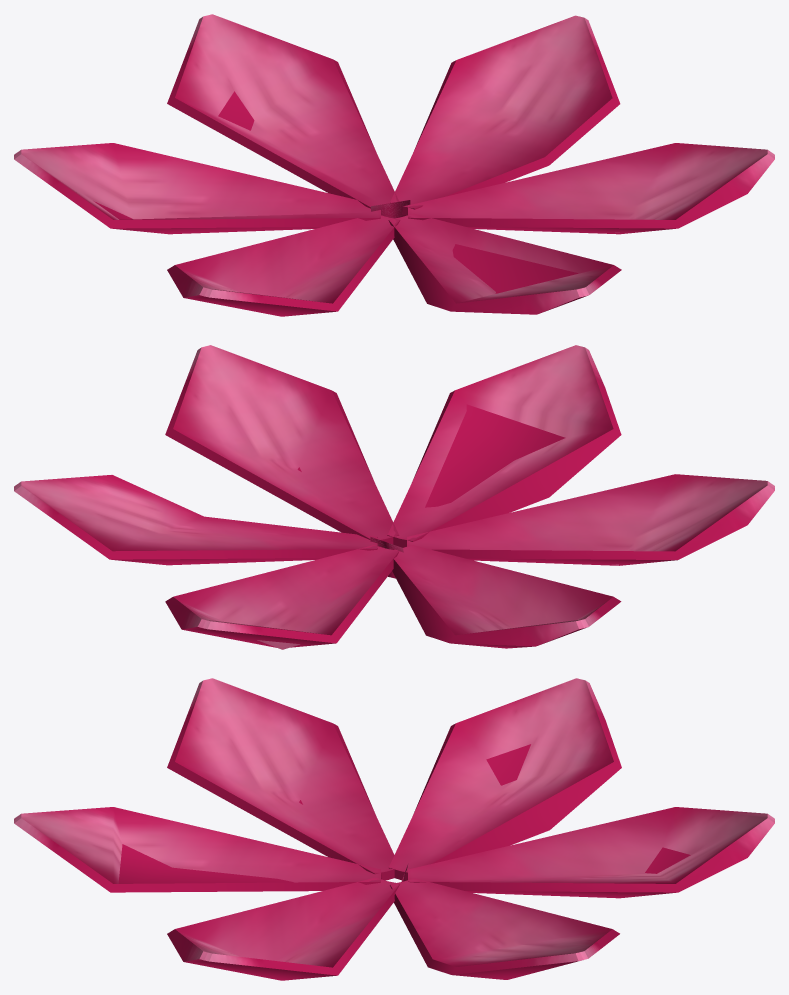
The model's file is lily-pads.lod1.glb.
The picture shows the model from 3 angles, top to bottom: view 1: azimuth 30°, elevation 25°; view 2: azimuth 150°, elevation 25°; view 3: azimuth 270°, elevation 25°; orthographic projection.
Parts seen in each view (by area): view 1: Object_2; view 2: Object_2; view 3: Object_2.
Boxes of the visible parts, x1,y1,x2,y2 form: Object_2: [14, 14, 774, 316]; Object_2: [14, 345, 774, 649]; Object_2: [14, 678, 774, 980].
Size of the model in its own units: 5.24 by 0.7925 by 6.
Materials: 1 (1 with a texture image).
